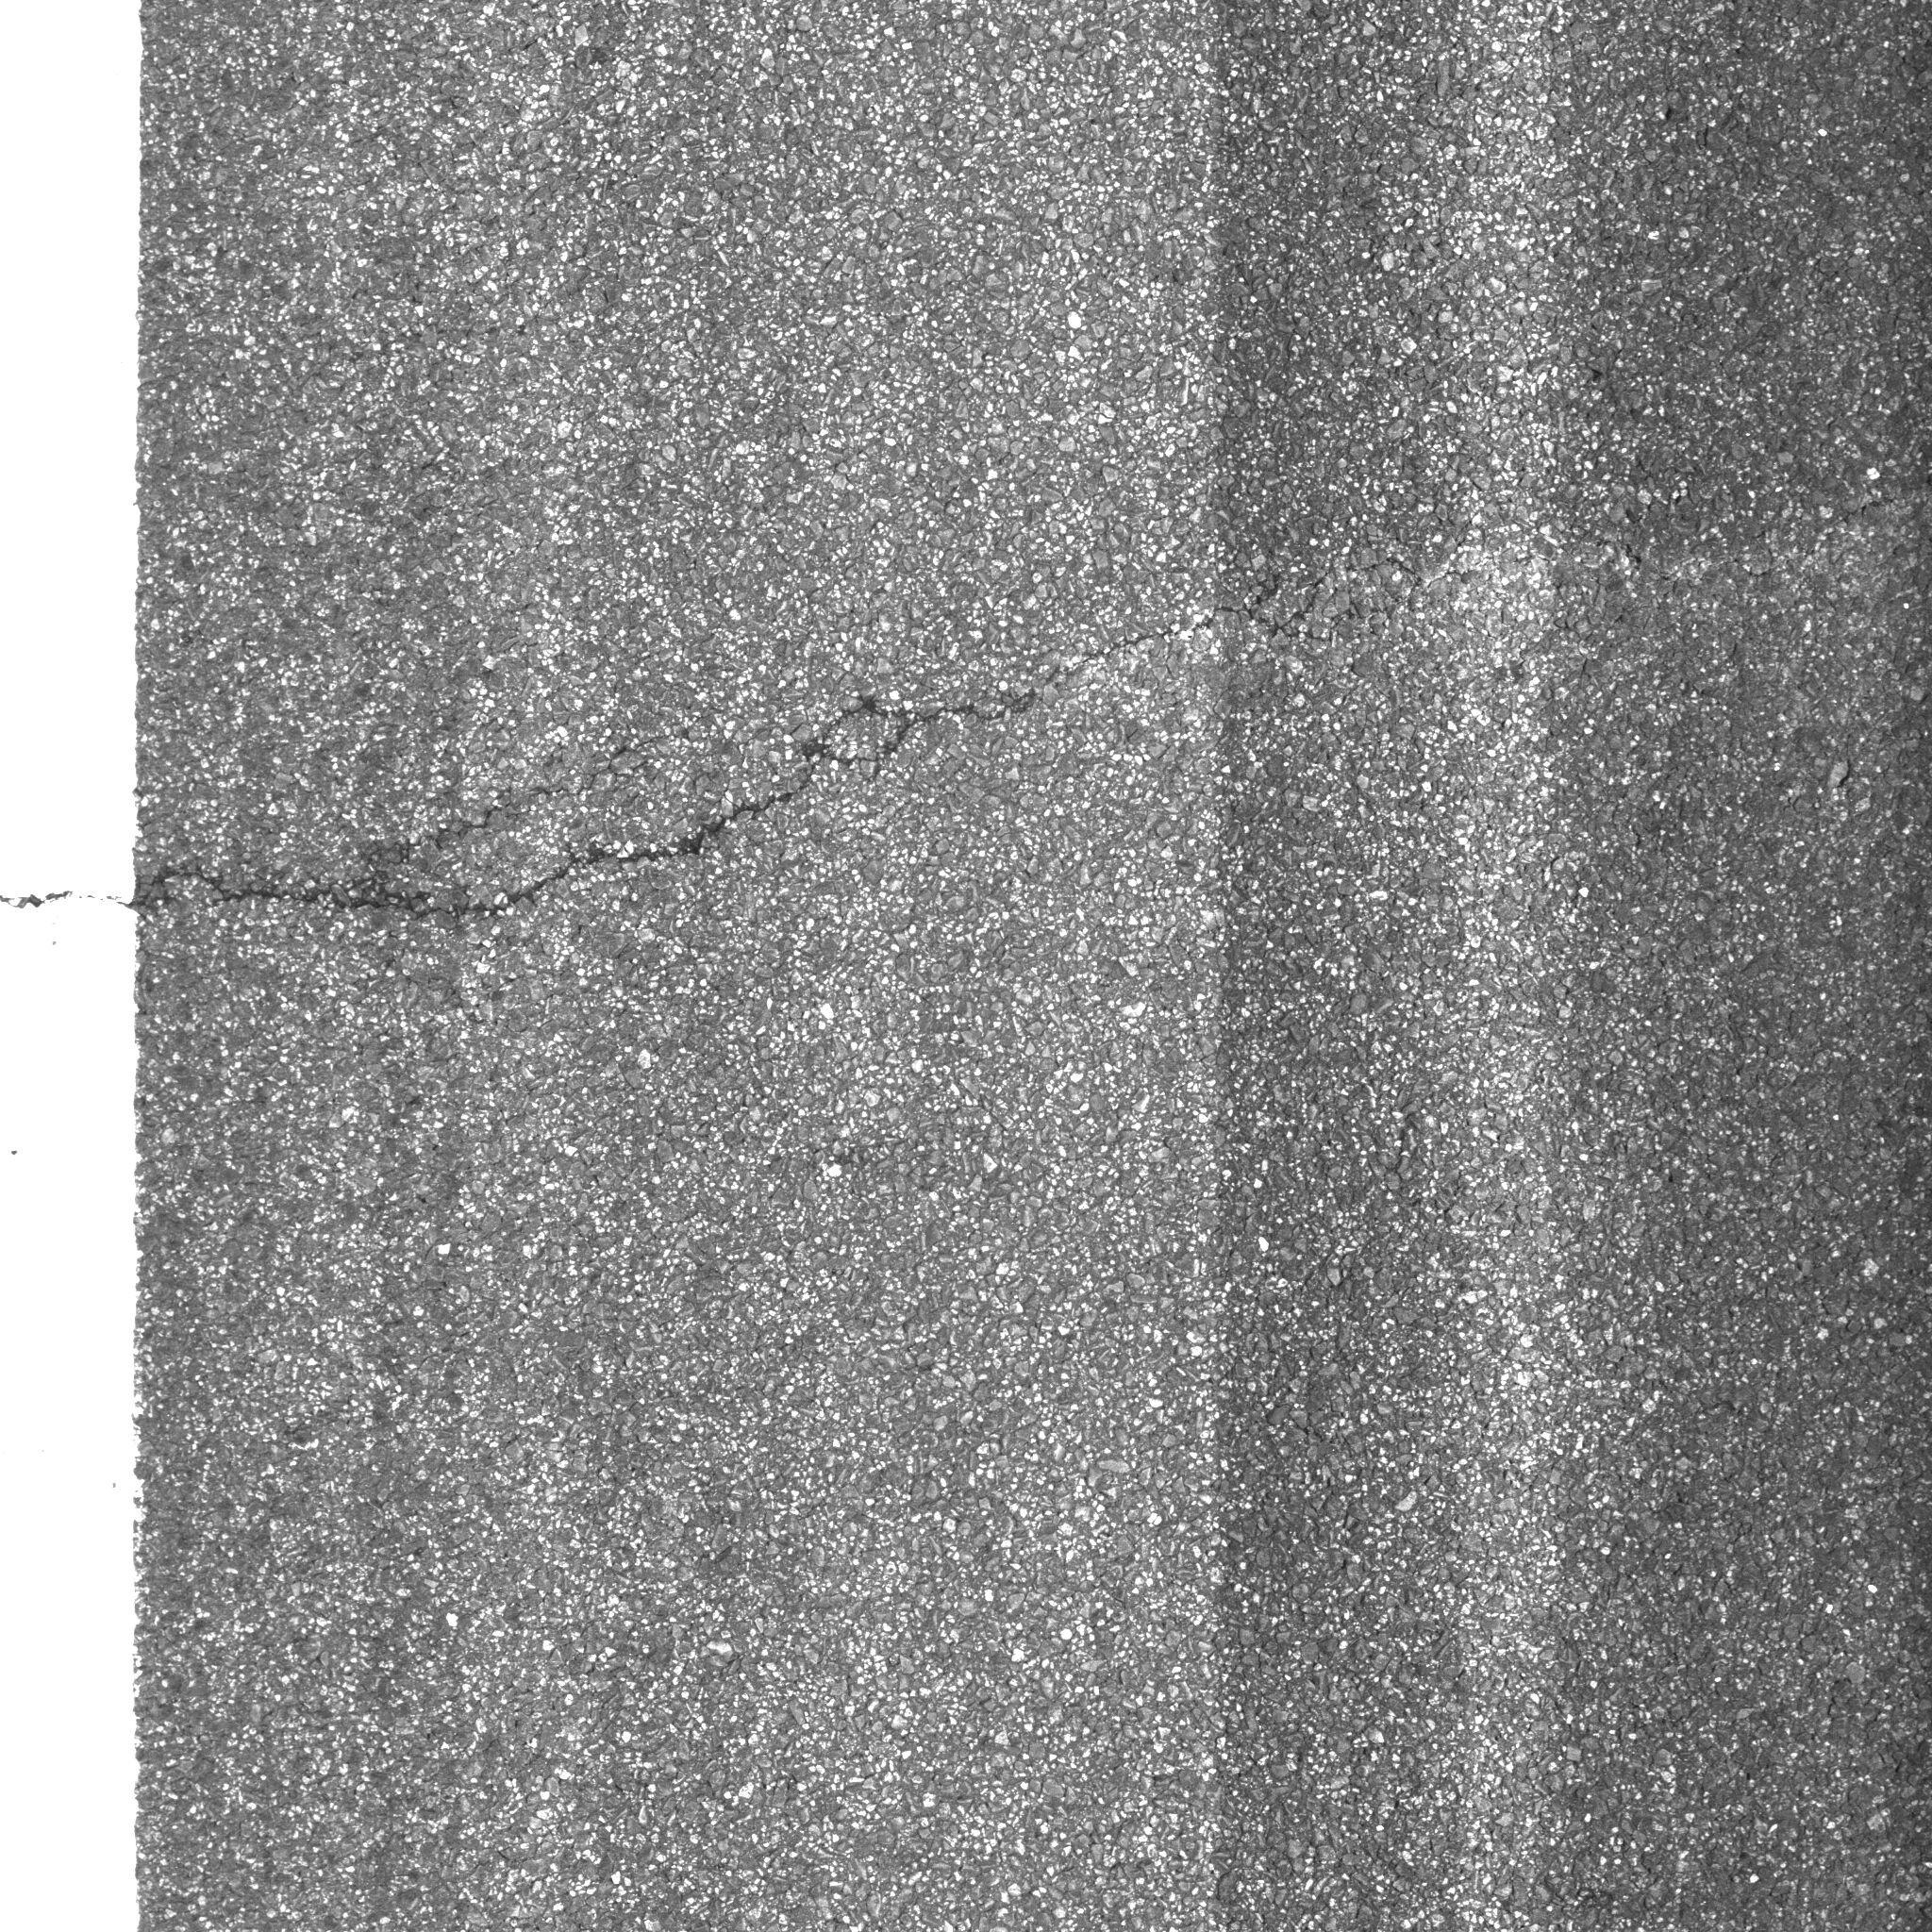transeverse: (2, 478, 1932, 950)
